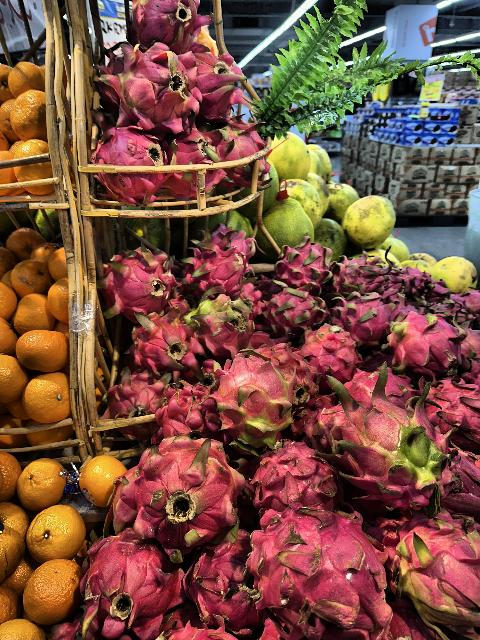buah-naga-belum-matang: (314, 364, 450, 498), (394, 522, 480, 632), (213, 352, 299, 446), (184, 288, 256, 350)
buah-naga-matang: (239, 496, 394, 636), (119, 433, 233, 552), (75, 532, 187, 634), (254, 442, 352, 520), (100, 46, 192, 128), (100, 237, 178, 319), (387, 306, 469, 376), (129, 308, 207, 376), (88, 126, 164, 194), (161, 131, 229, 203), (191, 47, 255, 123), (416, 376, 480, 442), (222, 118, 282, 186), (128, 0, 212, 48), (175, 236, 251, 288), (158, 384, 232, 436), (102, 366, 170, 422), (333, 286, 395, 344), (276, 231, 334, 289), (302, 325, 358, 377), (262, 285, 326, 329), (336, 248, 386, 284)
